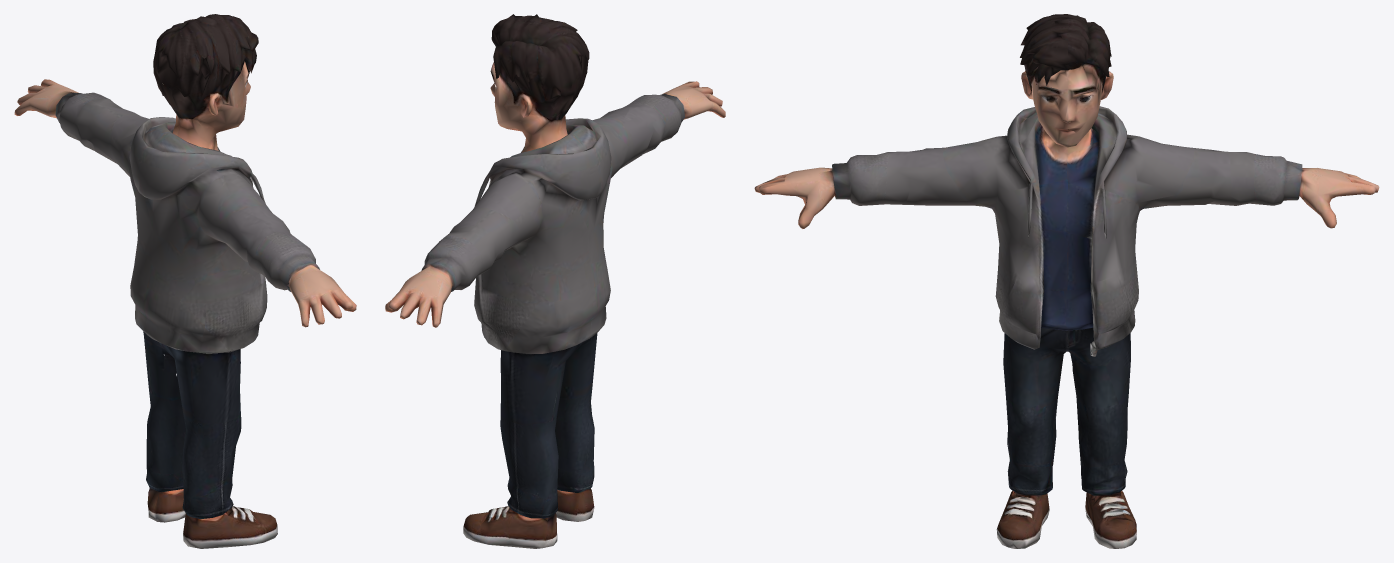
3 renders of one model, left to right at view 1: azimuth 30°, elevation 25°; view 2: azimuth 150°, elevation 25°; view 3: azimuth 270°, elevation 25°, orthographic.
Parts seen in each view (by area): view 1: tripo_node_529997c8-829c-401c-ba9b-0ccee3296e88; view 2: tripo_node_529997c8-829c-401c-ba9b-0ccee3296e88; view 3: tripo_node_529997c8-829c-401c-ba9b-0ccee3296e88.
Part boxes in pixels (box(x1,y1,x2,y2)): tripo_node_529997c8-829c-401c-ba9b-0ccee3296e88: box(14, 14, 356, 548); tripo_node_529997c8-829c-401c-ba9b-0ccee3296e88: box(385, 14, 725, 548); tripo_node_529997c8-829c-401c-ba9b-0ccee3296e88: box(754, 14, 1379, 548).
Bounding box in the file's own units: 0.4163 × 1.8 × 2.
1 material, 1 textured.
